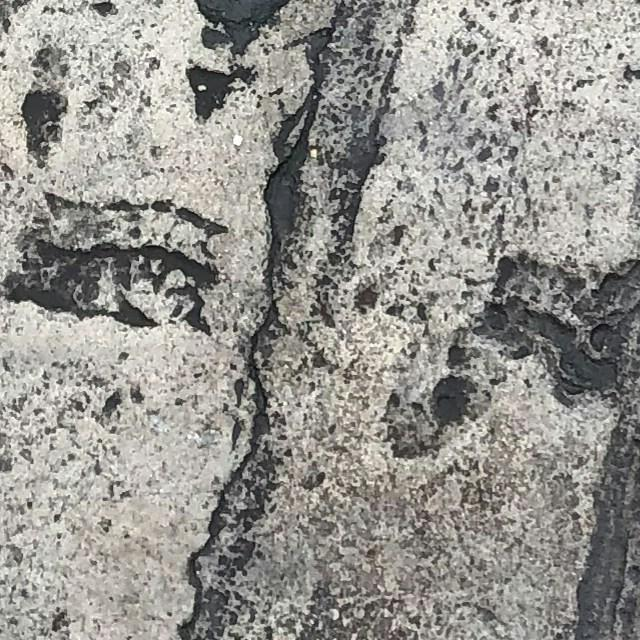diagonal crack: (179, 2, 342, 639)
